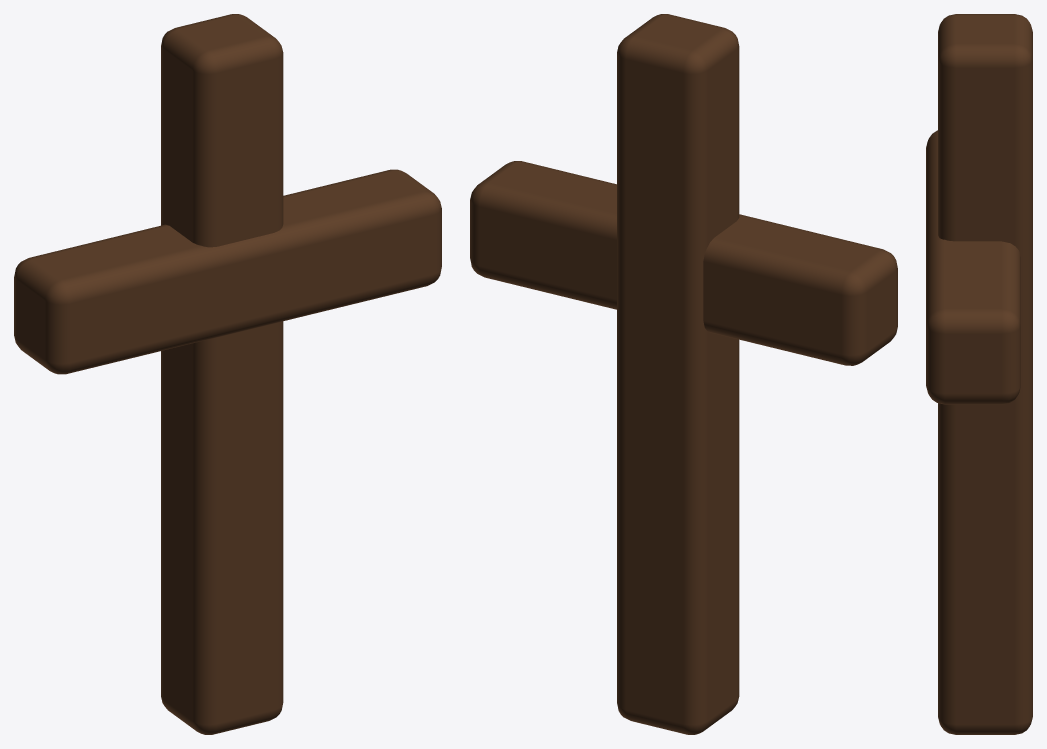
File: scetis-cruce.glb
The picture shows the model from 3 angles, left to right: view 1: azimuth 30°, elevation 25°; view 2: azimuth 150°, elevation 25°; view 3: azimuth 270°, elevation 25°; orthographic projection.
Visible parts, largest first — view 1: scetis-cruce; view 2: scetis-cruce; view 3: scetis-cruce.
Part boxes in pixels (x1=…): scetis-cruce: x1=14, y1=14, x2=441, y2=734; scetis-cruce: x1=470, y1=14, x2=897, y2=734; scetis-cruce: x1=926, y1=14, x2=1032, y2=734.
Size of the model in its own units: 0.58 by 0.96 by 0.135.
